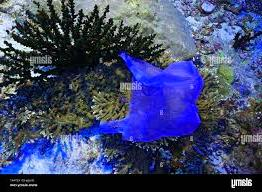Trash: (104, 56, 209, 144)
